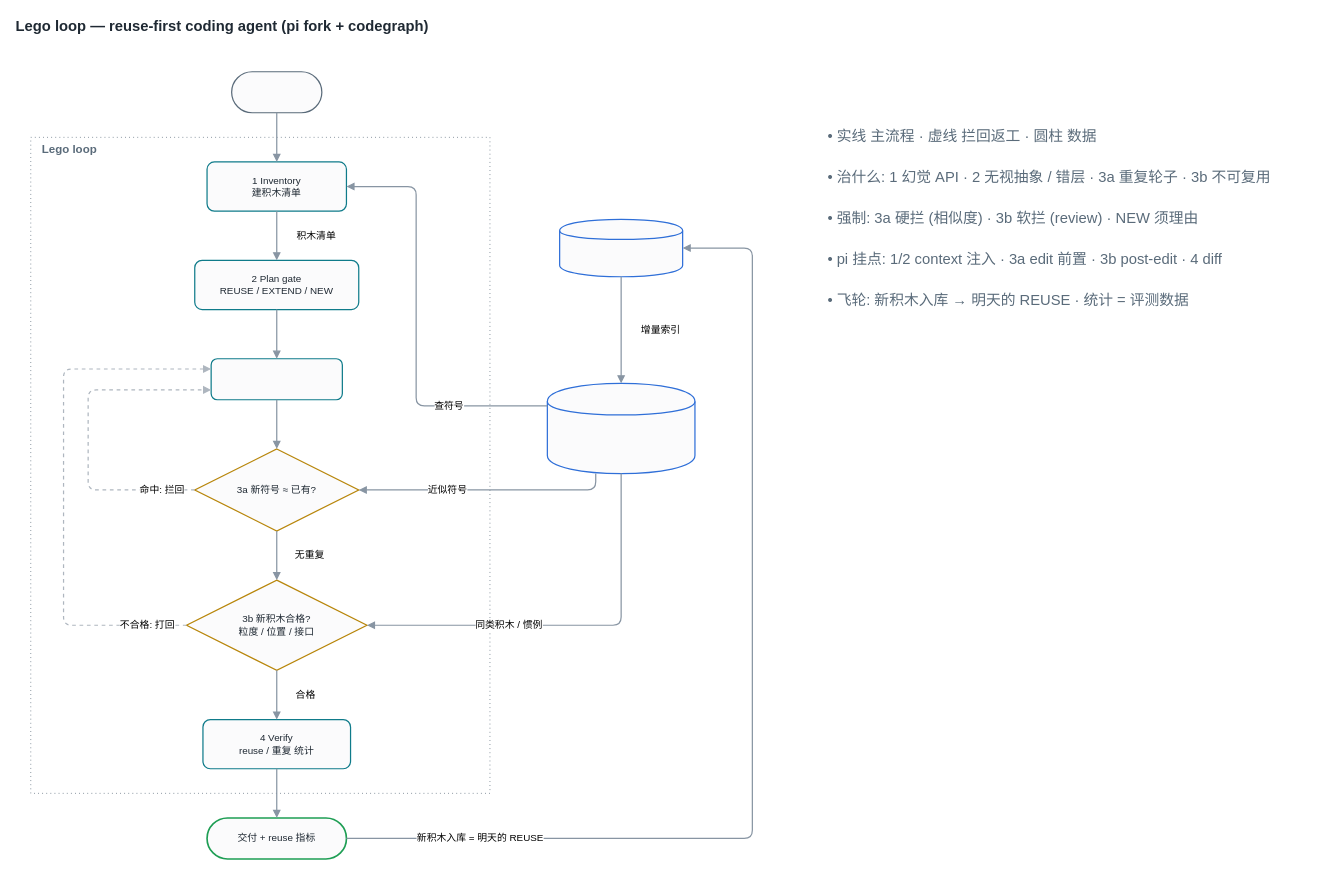
Image size: 1332x873. Some labels were removed from this diagram. The box of each missing label's shape, as (x1, y1, x2, y2) in pixels:
codegraph 索引 符号 / 调用 / 影响面: (546, 382, 695, 474)
任务: (231, 71, 322, 113)
存量代码库: (559, 218, 683, 277)
模型写 / 改代码: (210, 358, 343, 400)
